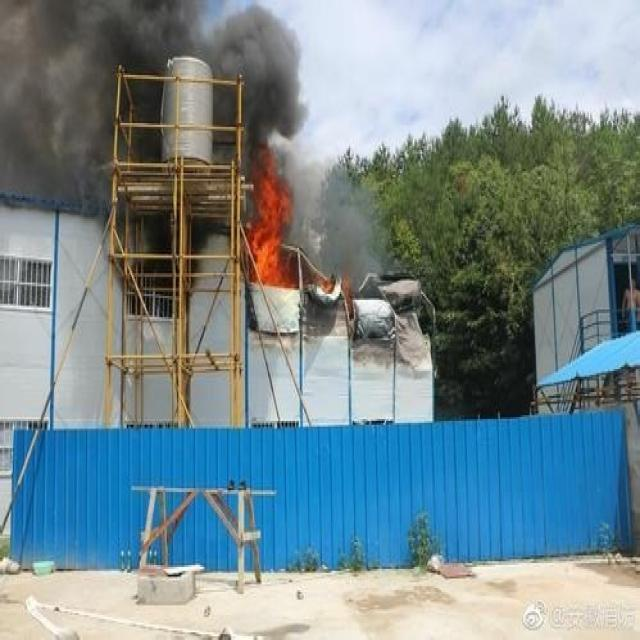Fire: (244, 148, 298, 292), (318, 269, 353, 317)
Smoke: (1, 2, 382, 298)
